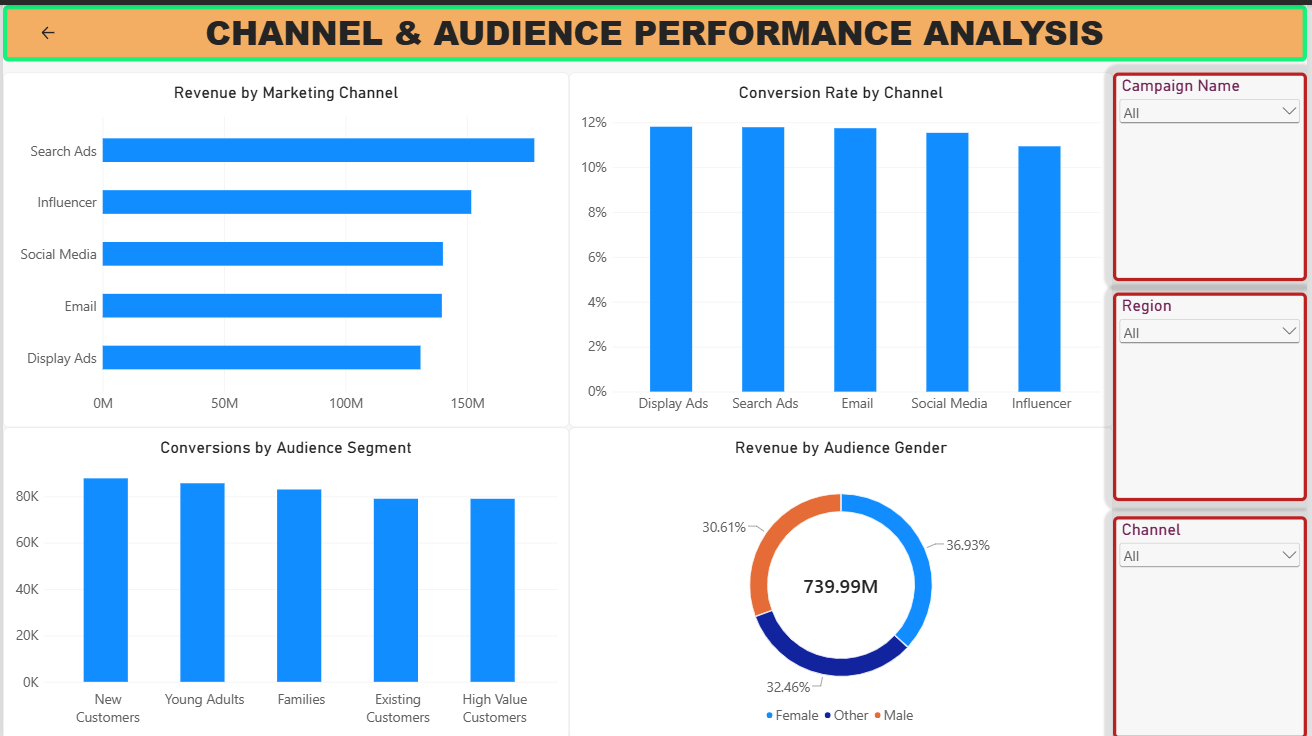

This screenshot's page, from the dashboard's own definition file:
{"tool":"powerbi","page":{"name":"Channel  Analysis","canvas":[1920,1080],"ordinal":1},"visuals":[{"type":"textbox","box":[0,0,1919.6,82.8],"z":0},{"type":"clusteredBarChart","title":"Revenue by Marketing Channel","fields":{"Category":["Marketing Campaign Data.Channel"],"Y":["Marketing Campaign Data.Total Revenue"]},"box":[0,99.4,833.7,522.7],"z":1},{"type":"clusteredColumnChart","title":"Conversions by Audience Segment","fields":{"Category":["Marketing Campaign Data.AudienceSegment"],"Y":["Marketing Campaign Data.Total Conversions"]},"box":[0,622.1,833.7,458.3],"z":2},{"type":"donutChart","title":"Revenue by Audience Gender","fields":{"Category":["Marketing Campaign Data.Gender"],"Y":["Marketing Campaign Data.Total Revenue"]},"box":[833.7,622.1,800.6,458.3],"z":4},{"type":"clusteredColumnChart","title":"Conversion Rate by Channel","fields":{"Category":["Marketing Campaign Data.Channel"],"Y":["Marketing Campaign Data.Conversion Rate"]},"box":[833.7,99.4,800.6,522.7],"z":5},{"type":"slicer","fields":{"Values":["Marketing Campaign Data.CampaignName"]},"box":[1634.4,99.4,285.3,307.4],"z":6},{"type":"slicer","fields":{"Values":["Marketing Campaign Data.Region"]},"box":[1634.4,423.3,285.3,307.4],"z":7},{"type":"slicer","fields":{"Values":["Marketing Campaign Data.Channel"]},"box":[1634.4,752.8,285.3,327.6],"z":8},{"type":"actionButton","box":[0,0,134.4,82.8],"z":9}]}

Visuals, with their boxes in screenshot pixels (x1, y1, x2, y2), scaled from the page's 1920x1080 canvas onto the 1312x736 screenshot:
textbox: l=0, t=0, r=1311, b=56
"Revenue by Marketing Channel" clusteredBarChart: l=0, t=68, r=570, b=424
"Conversions by Audience Segment" clusteredColumnChart: l=0, t=424, r=570, b=735
"Revenue by Audience Gender" donutChart: l=570, t=424, r=1117, b=735
"Conversion Rate by Channel" clusteredColumnChart: l=570, t=68, r=1117, b=424
slicer - Marketing Campaign Data.CampaignName: l=1117, t=68, r=1311, b=277
slicer - Marketing Campaign Data.Region: l=1117, t=288, r=1311, b=498
slicer - Marketing Campaign Data.Channel: l=1117, t=513, r=1311, b=735
actionButton: l=0, t=0, r=92, b=56
